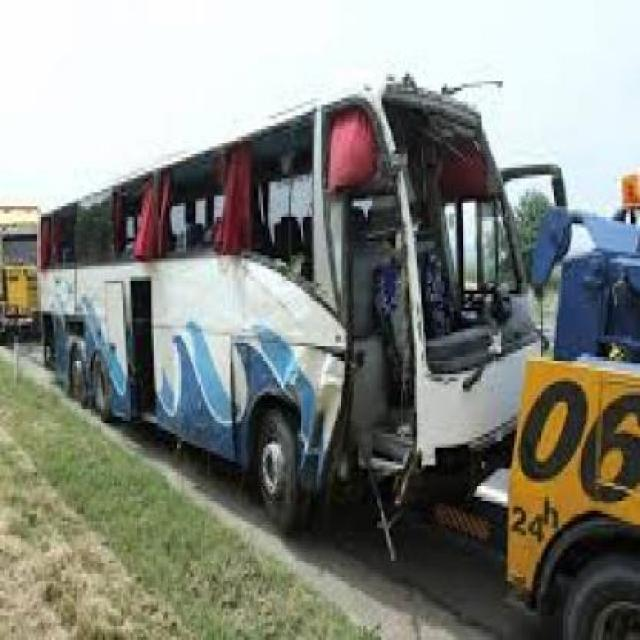accident: (20, 114, 551, 529)
